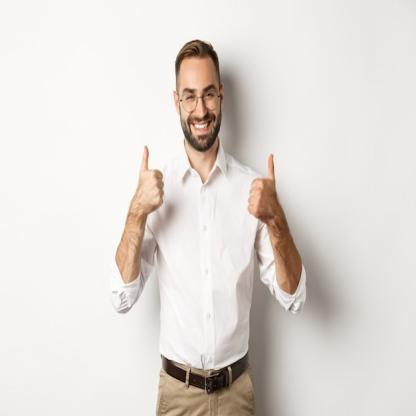thumb_up: (128, 141, 168, 215), (245, 148, 282, 227)
